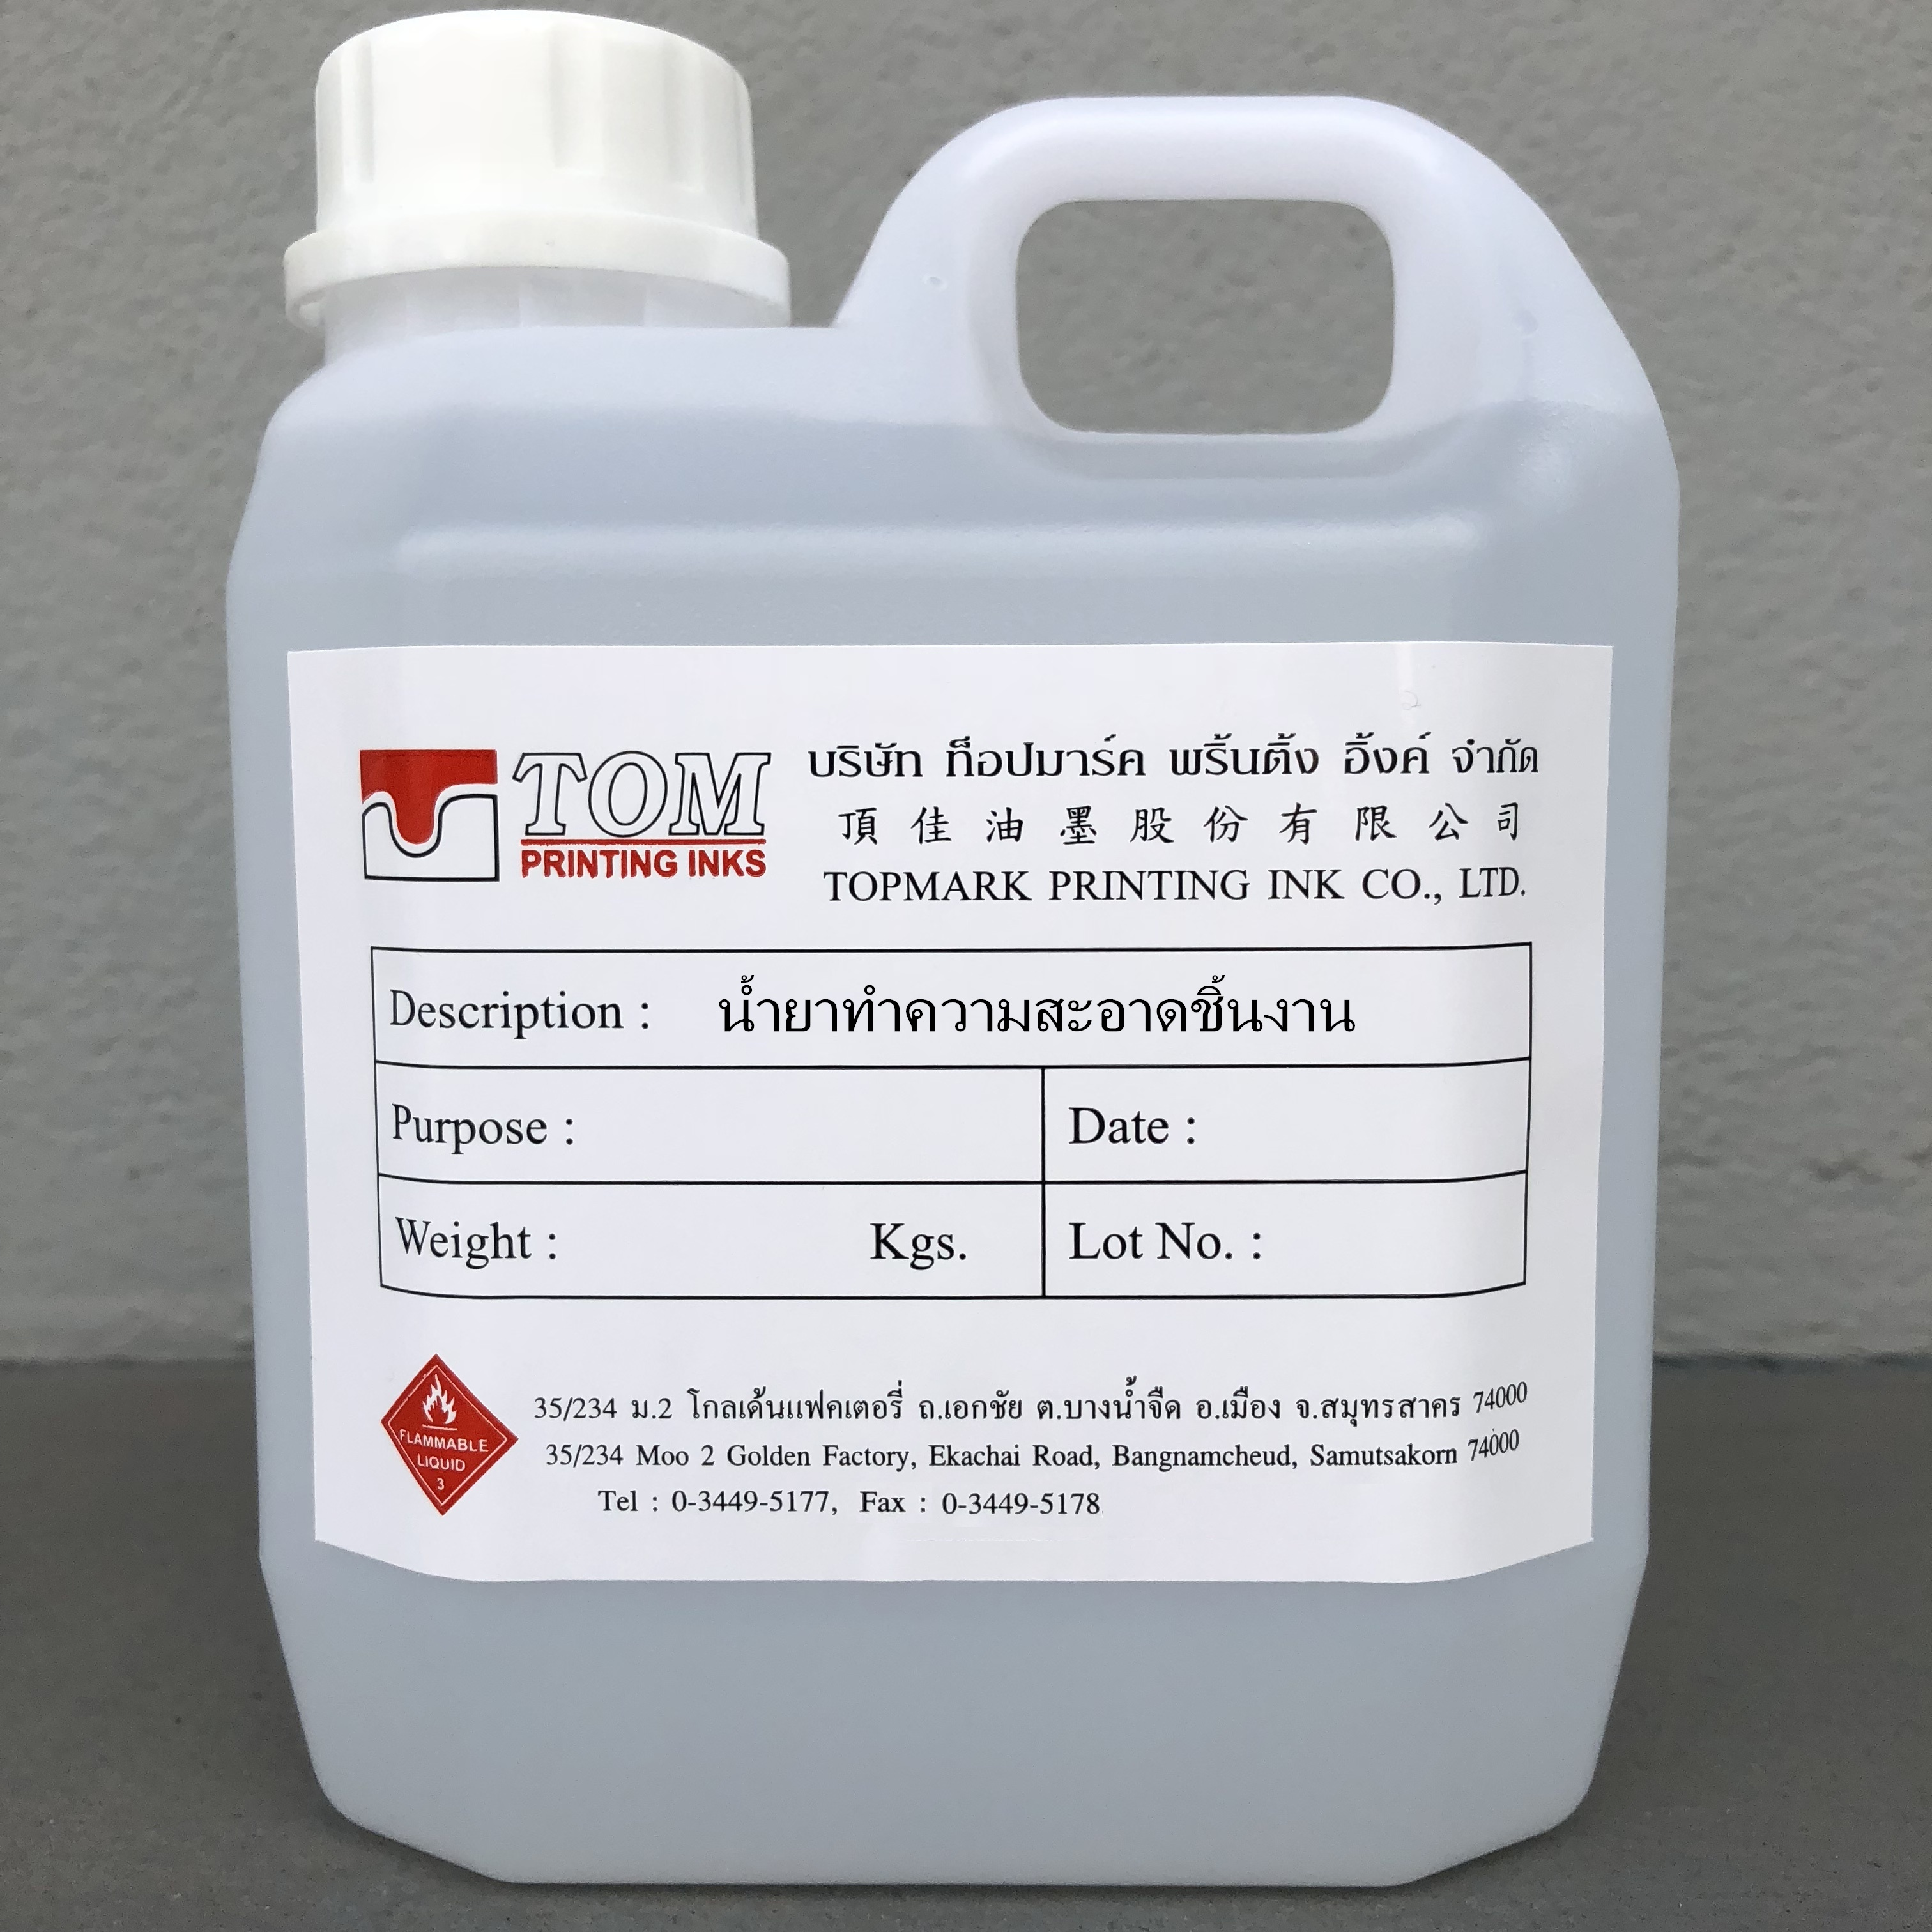Cleaning_solution: (214, 11, 1688, 1905)
